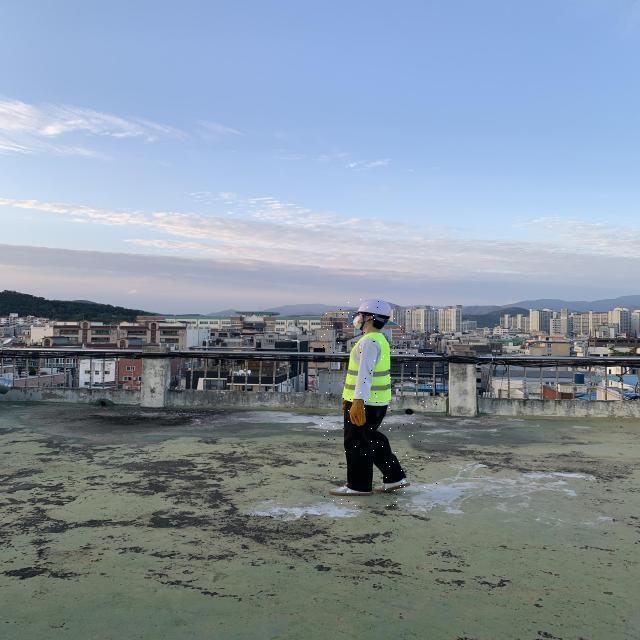boots: (374, 479, 411, 493), (329, 486, 373, 496)
helmet: (353, 299, 392, 317)
person: (320, 298, 438, 507)
vest: (342, 333, 392, 403)
